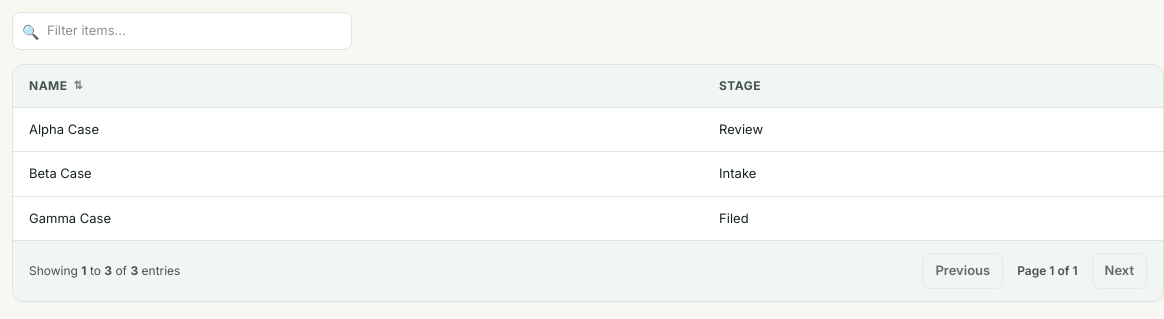
Test: Reusable Frontend Design Components › renders DataTable with search, sort and pagination
Expected: the text "Alpha Case" is shown, [13,107,703,152]
Expected: the text "Beta Case" is shown, [13,152,703,196]
# Search input filters items
Type "Alpha" into the field labelled "Filter items...".
click(182, 31); type("Alpha")  # box [12,12,352,50]
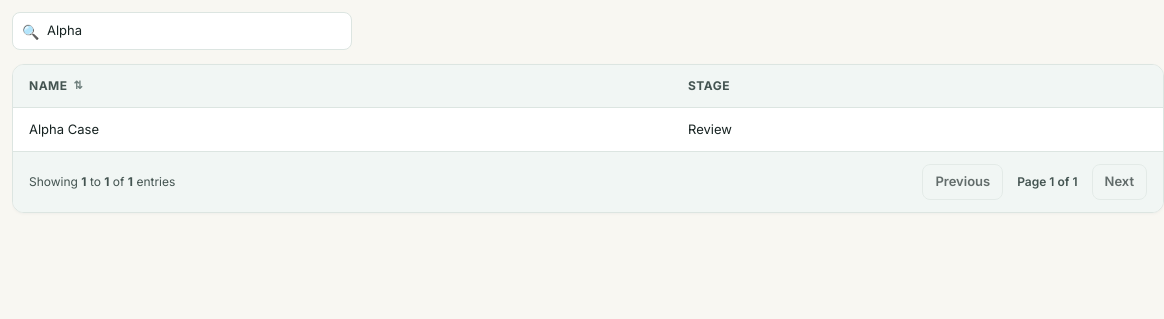
Expected: the text "Alpha Case" is shown, [13,107,672,151]
Result: the text "Beta Case" is gone
